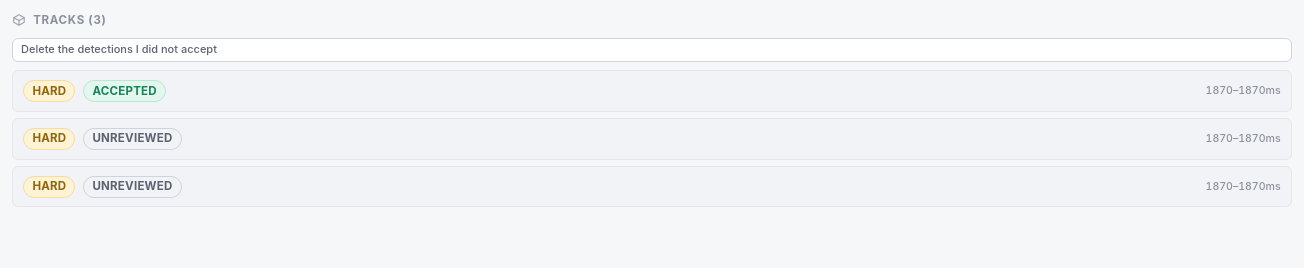
Scenario: SweepTracks › says why a detection stayed behind when one did
The width and height of the screenshot is (1304, 268).
Click the button "Delete the detections I did not accept" at [119, 49], box [12,38,1292,62]
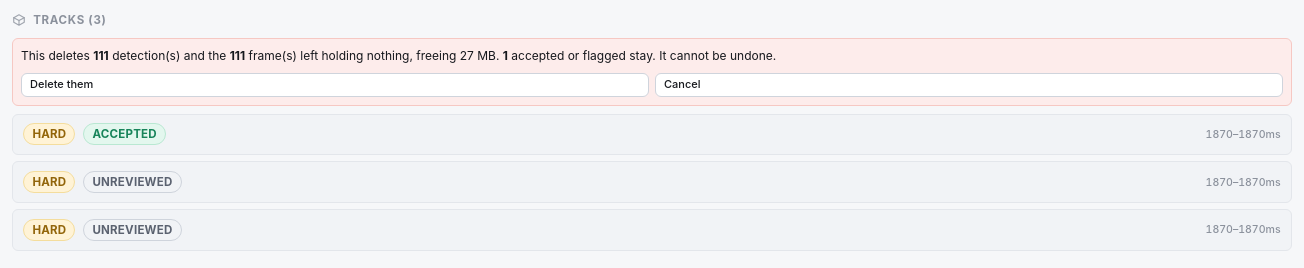
Click the button "Delete them" at [62, 84], box [21,73,649,97]
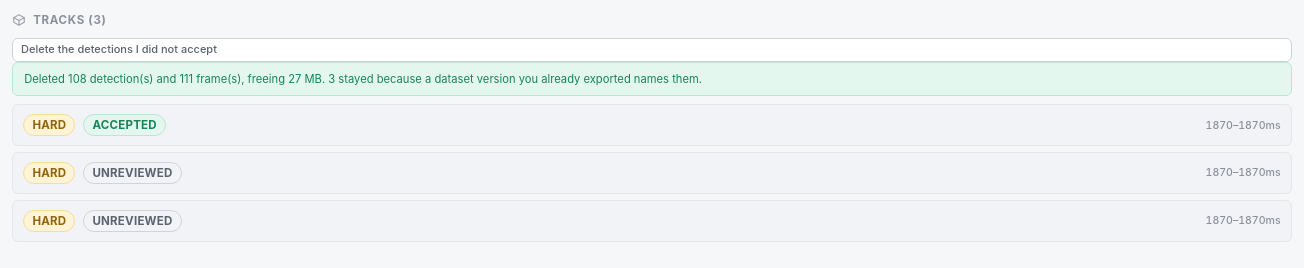
Check: the text "3 stayed because a dataset version" is shown, box [325,72,702,86]
